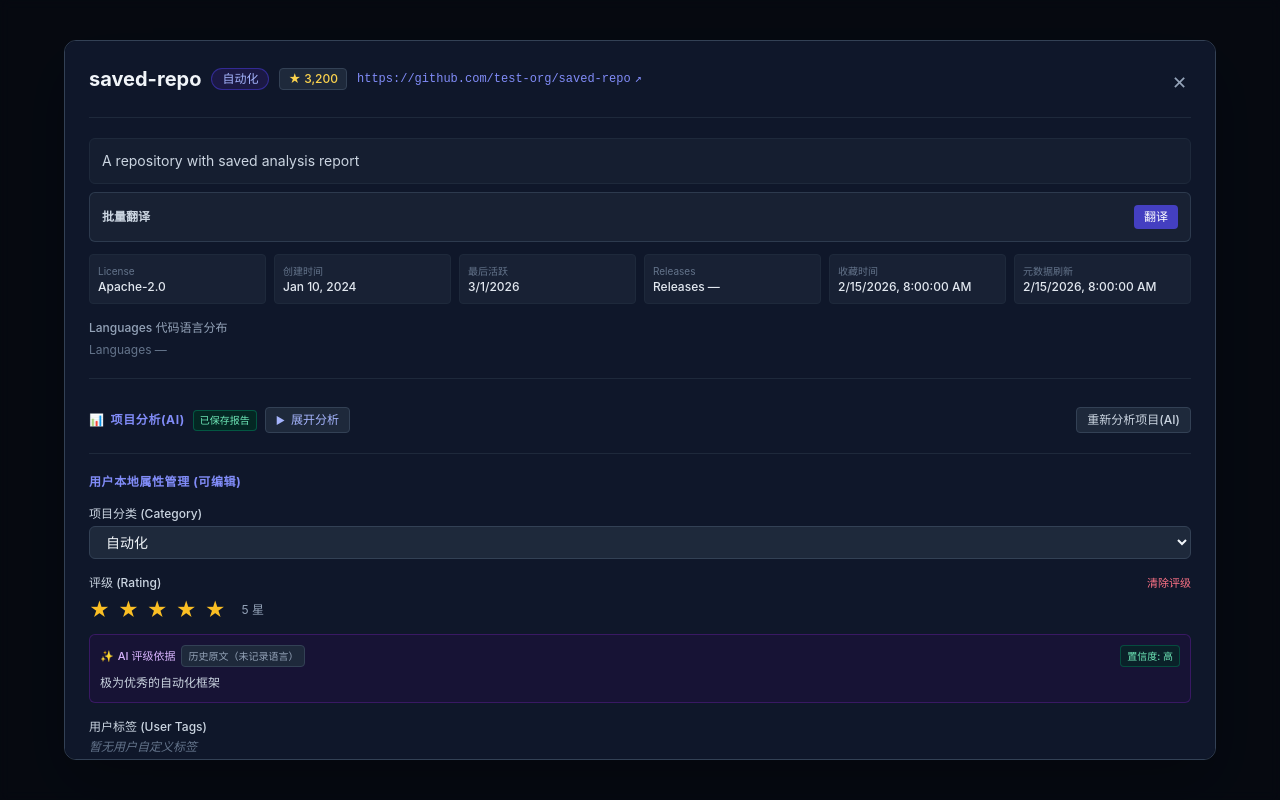
Test case: S2: AI Analysis Folding (R03) & Detail GitHub URL Layout (R04) › R03: AI Analysis Folding Behavior › Case 4: re-analysis failure does NOT discard old saved report
The image size is (1280, 800).
Click the button with test id "detail-reanalyze-btn". click: (1134, 420)
box: [1076, 407, 1191, 433]
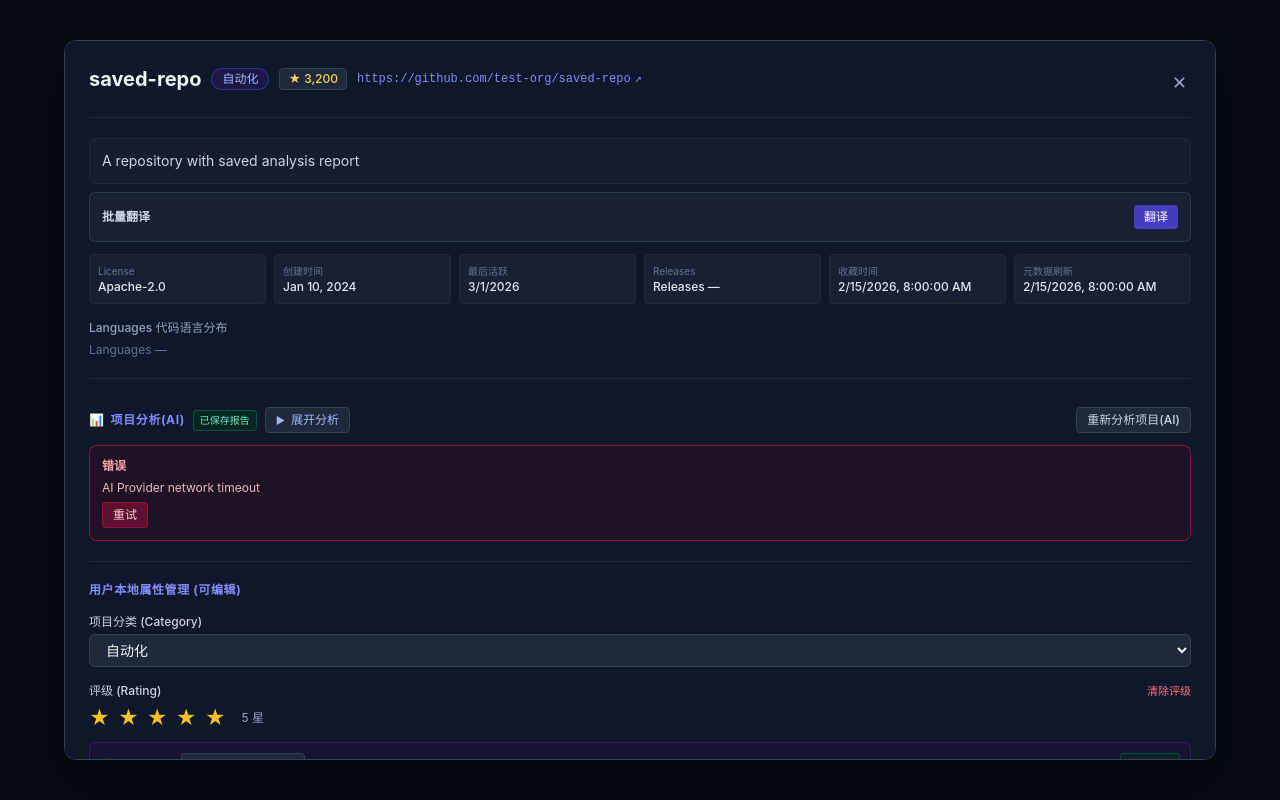
Check: the element with test id "detail-analysis-error" is shown, box [89, 445, 1191, 541]
Expand to verify old report is intact
Click the button with test id "detail-analysis-toggle-btn". click: (307, 420)
box: [265, 407, 350, 433]
(page scrolled)
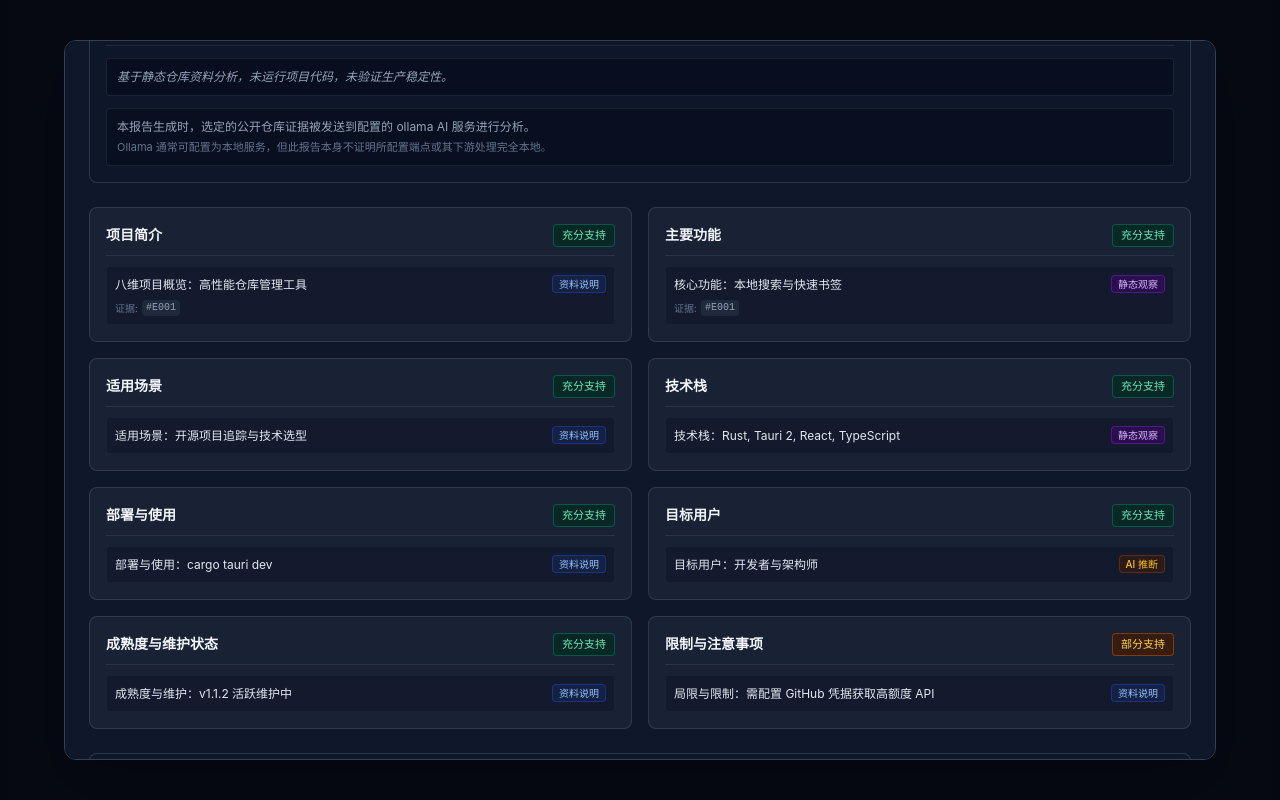
Check: the element with test id "detail-analysis-report-container" is shown
Check: the element with test id "detail-analysis-report-container" shows "八维项目概览：高性能仓库管理工具", box [115, 276, 307, 292]
